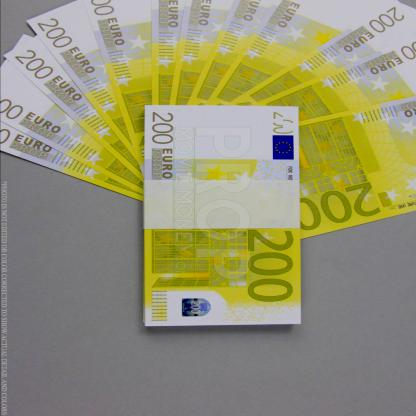euro_banknote: (115, 139, 334, 293), (13, 71, 177, 162), (287, 115, 405, 227), (63, 61, 236, 124), (33, 52, 192, 110), (254, 75, 413, 127)
